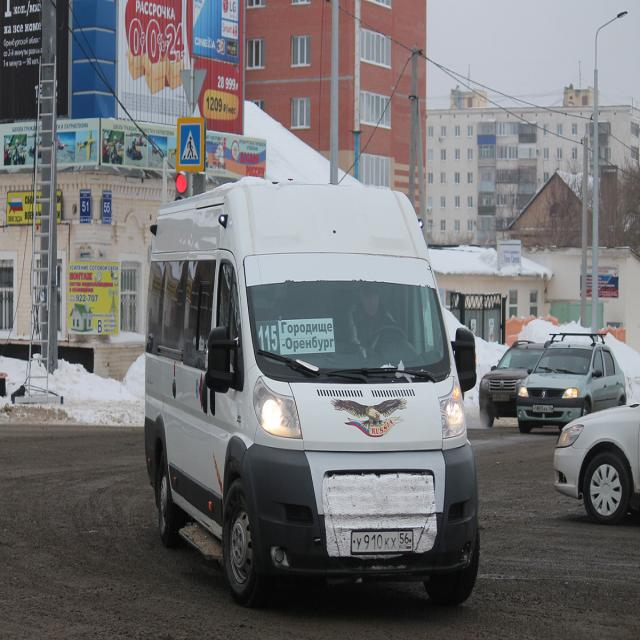number-of-bus: (257, 321, 280, 355)
